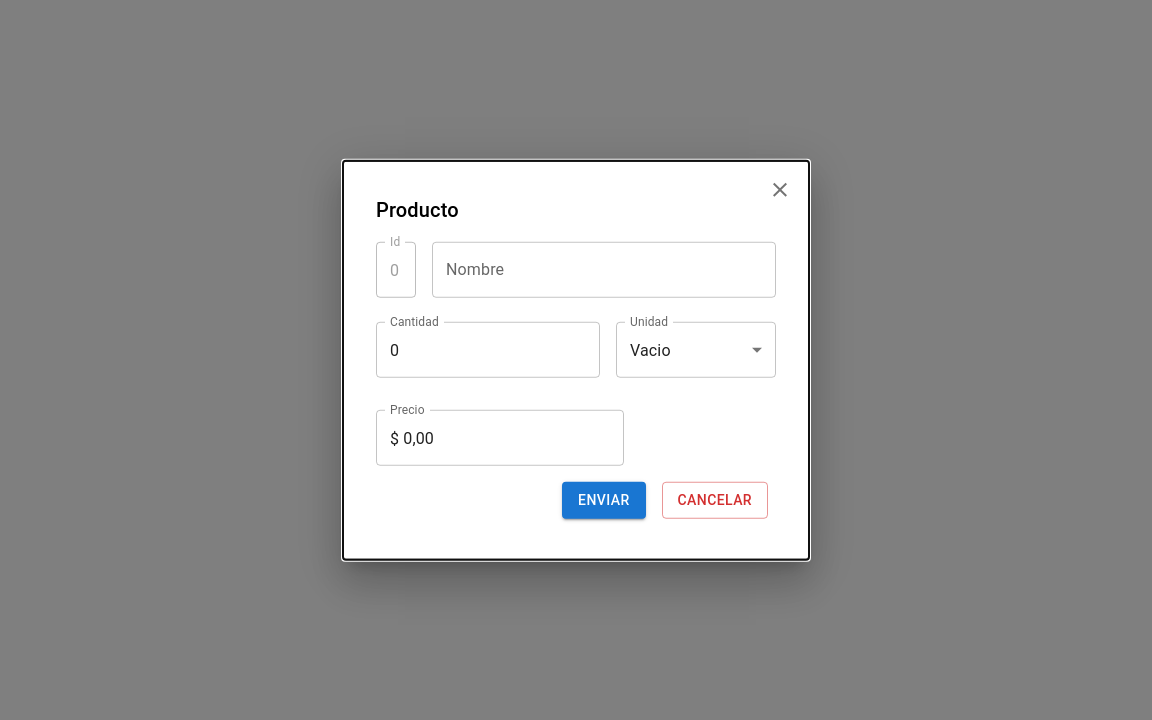
ProductoFormModal › debería mostrar error si se envía sin unidad
Check: the button "Enviar" is shown, box [562,482,646,518]
Type "Test" into the field labelled "Nombre" at (604, 270), box [432,242,776,298]
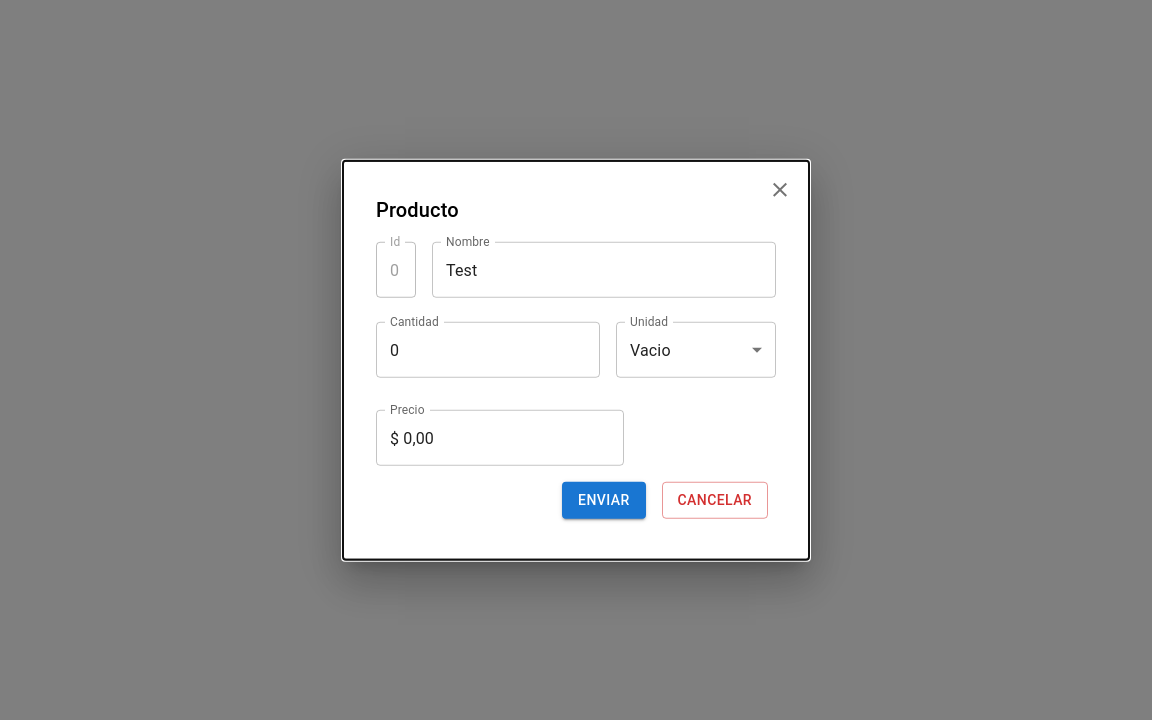
Replace the text in the field labelled "Precio" with "10" at (500, 438), box [376,410,624,466]
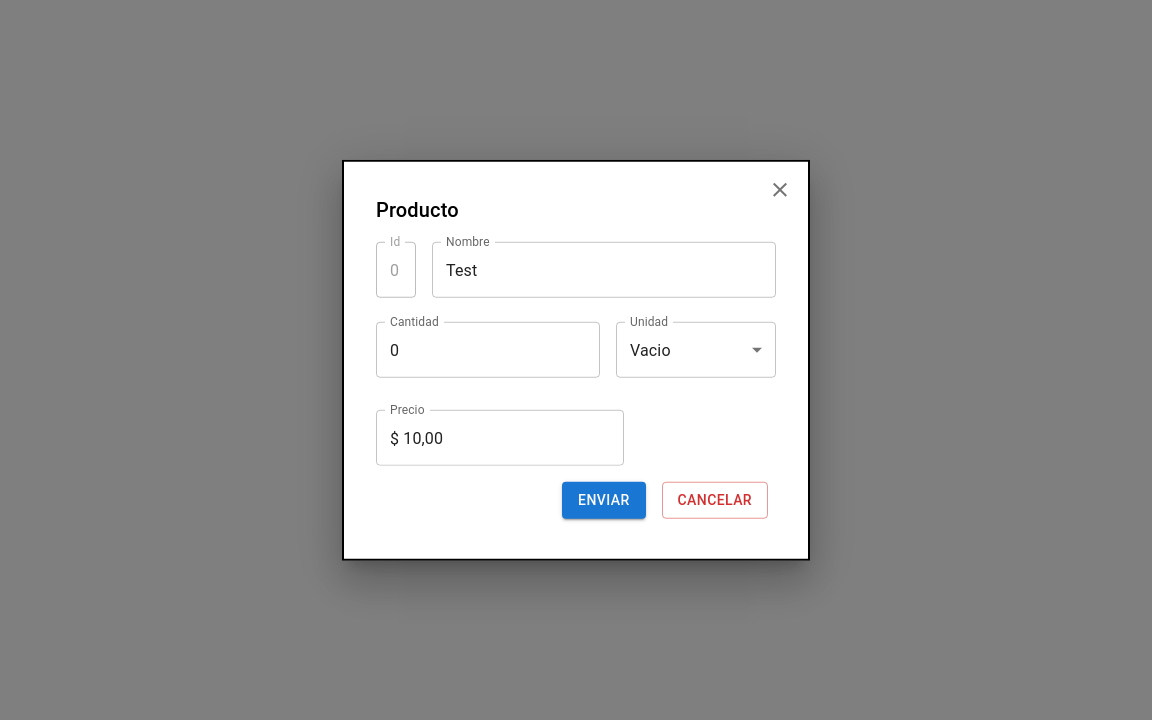
Click the button "Enviar" at (604, 500), box [562,482,646,518]
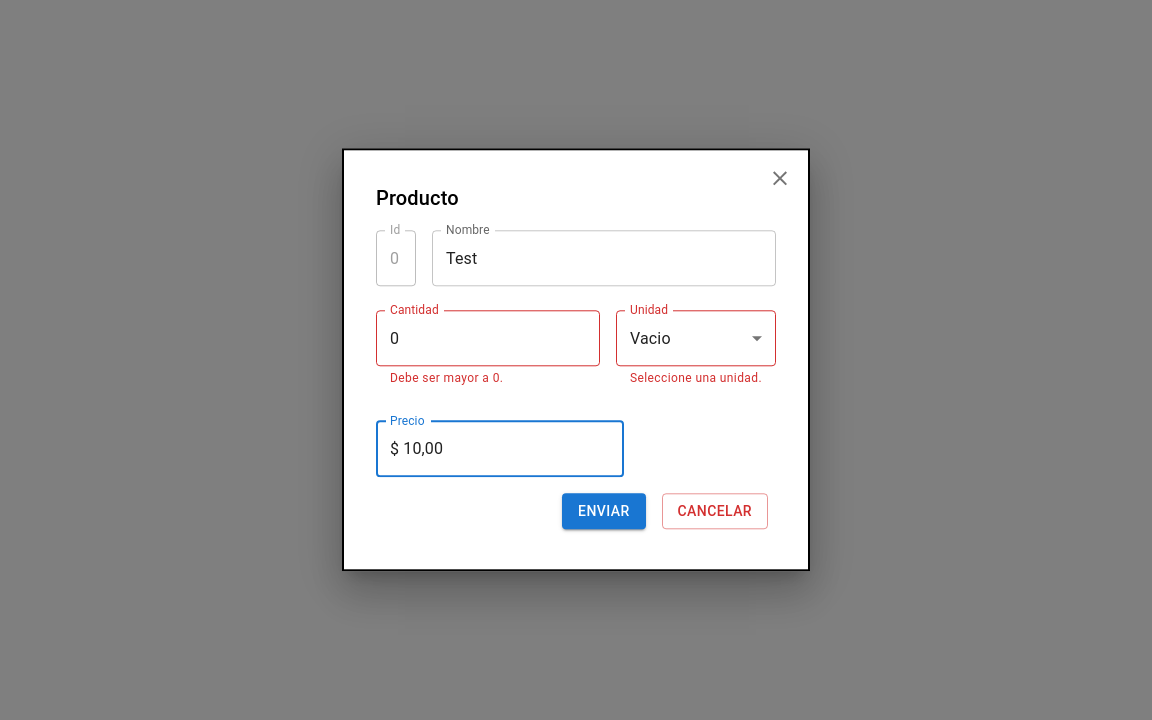
Check: the text "Seleccione una unidad." is shown, box [630,369,762,389]
